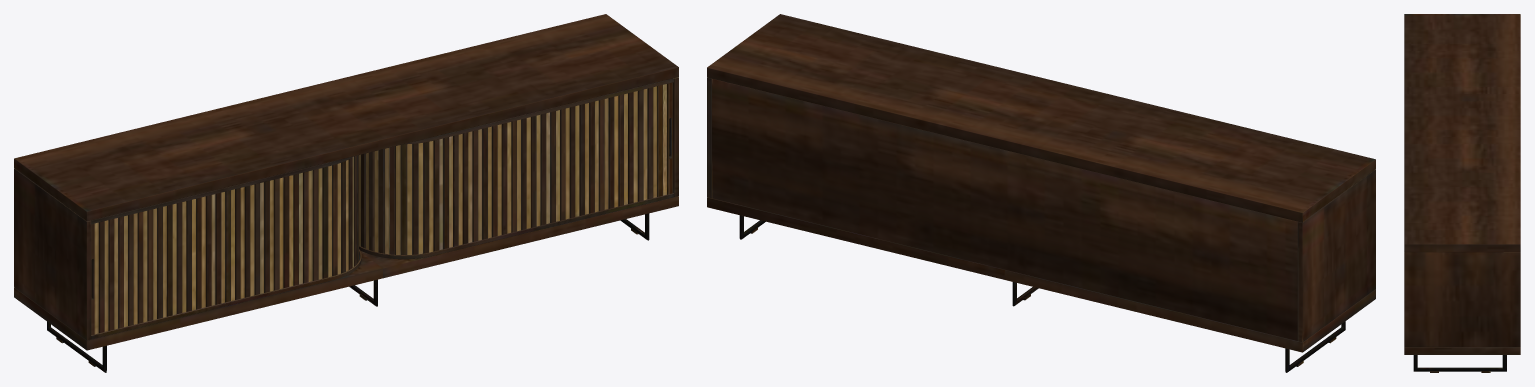
File: cabinet.glb
3 views of the same model, side by side, from view 1: azimuth 30°, elevation 25°; view 2: azimuth 150°, elevation 25°; view 3: azimuth 270°, elevation 25° (orthographic). The views are drawn at different scales.
Parts seen in each view (by area): view 1: modern_wooden_cabinet_body; view 2: modern_wooden_cabinet_body; view 3: modern_wooden_cabinet_body.
Part boxes in pixels (x1,y1,x2,y2): modern_wooden_cabinet_body: [14, 14, 678, 372]; modern_wooden_cabinet_body: [707, 14, 1375, 372]; modern_wooden_cabinet_body: [1404, 14, 1520, 372].
Size of the model in its own units: 2.44 by 0.6801 by 0.52.
1 material, 1 textured.
